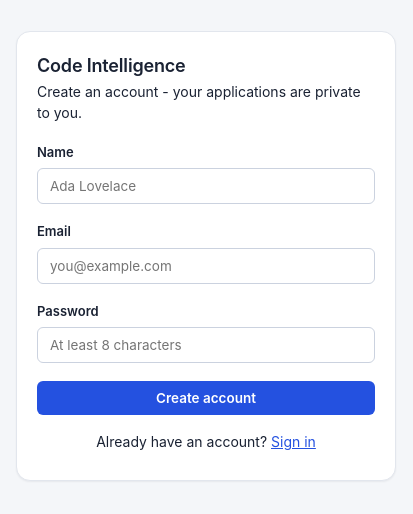
Test: RegisterPage › shows the server's error message on a failed registration
In the field labelled "Name": x=206, y=186 [37, 168, 375, 204], type "Ada"
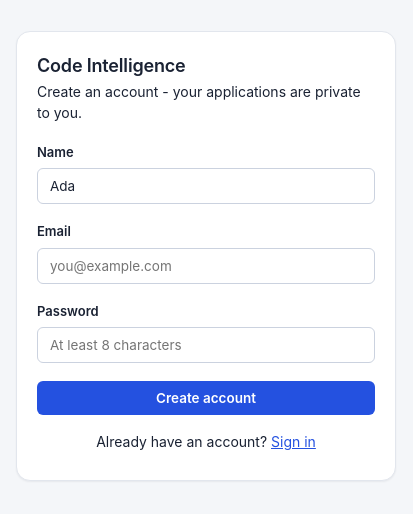
In the field labelled "Email": x=206, y=266 [37, 248, 375, 284], type "ada@example.com"
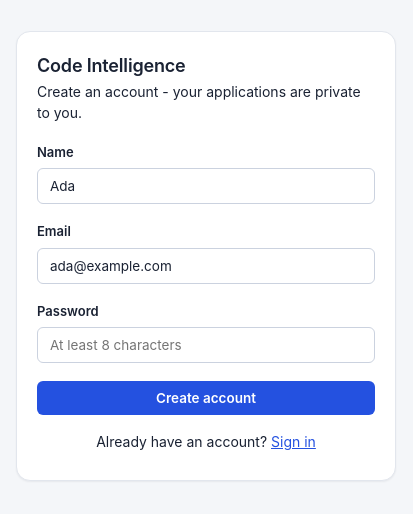
In the password field labelled "Password": x=206, y=345 [37, 327, 375, 363], type "correct-horse-battery-staple"
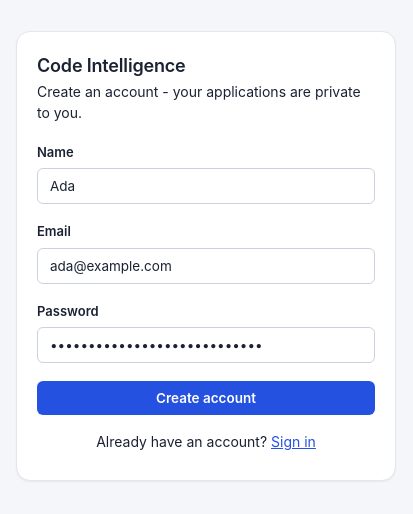
Click the button "Create account": x=206, y=398 [37, 381, 375, 415]
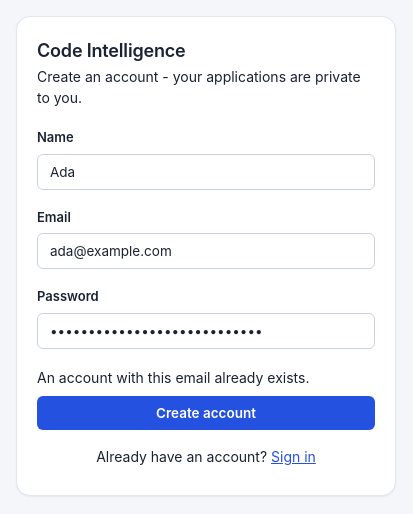
Check: the text "An account with this email already exists." is shown, box [37, 369, 310, 386]
